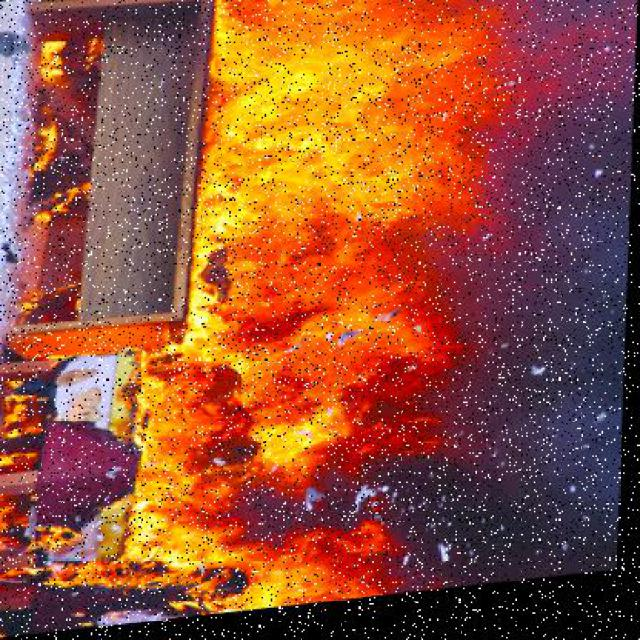fire: (129, 1, 469, 627)
